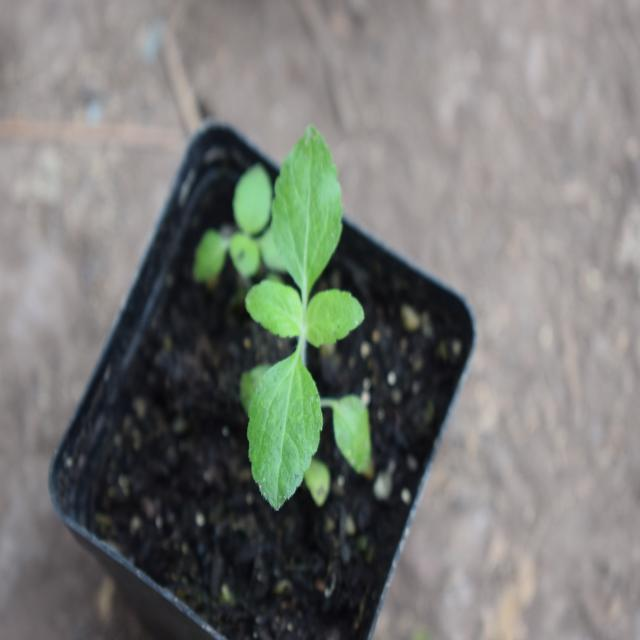billygoat_weed: (226, 122, 380, 514)
